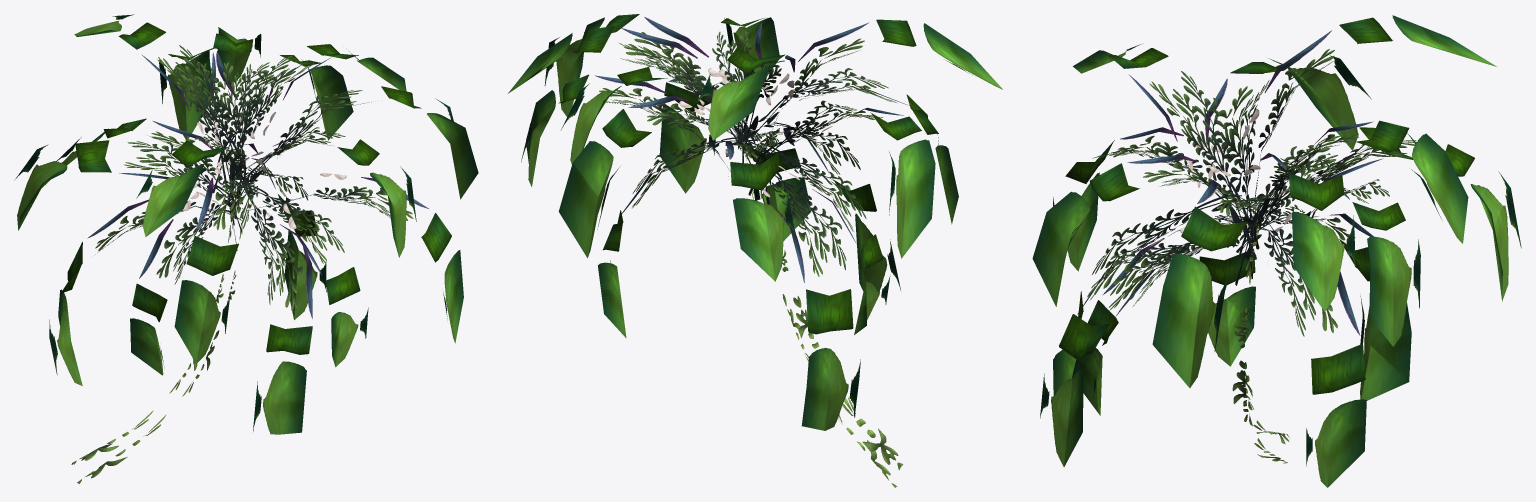
File: S_Tree_Green053_A1.FBX
3 renders of one model, left to right at view 1: azimuth 30°, elevation 25°; view 2: azimuth 150°, elevation 25°; view 3: azimuth 270°, elevation 25°, orthographic. The views are drawn at different scales.
Visible parts, largest first — view 1: S_Tree_Green053_A1; view 2: S_Tree_Green053_A1; view 3: S_Tree_Green053_A1.
Boxes of the visible parts, x1,y1,x2,y2 form: S_Tree_Green053_A1: (14,14,478,483); S_Tree_Green053_A1: (508,14,1002,487); S_Tree_Green053_A1: (1032,15,1521,487).
Size of the model in its own units: 802 by 774 by 694.
